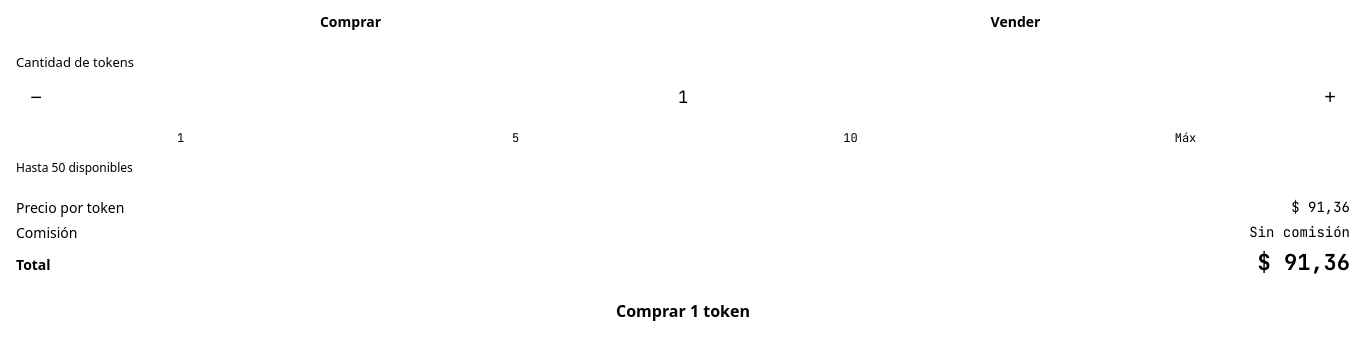
TradePanel › calcula el total como precio x cantidad, y lo actualiza con el stepper
Expected: the text "$ 91,36" is shown 2 times, [1291,198,1350,217]; [1258,248,1350,277]
Click the button named "Sumar" at {"x": 1330, "y": 97}, box [1310,77,1350,117]
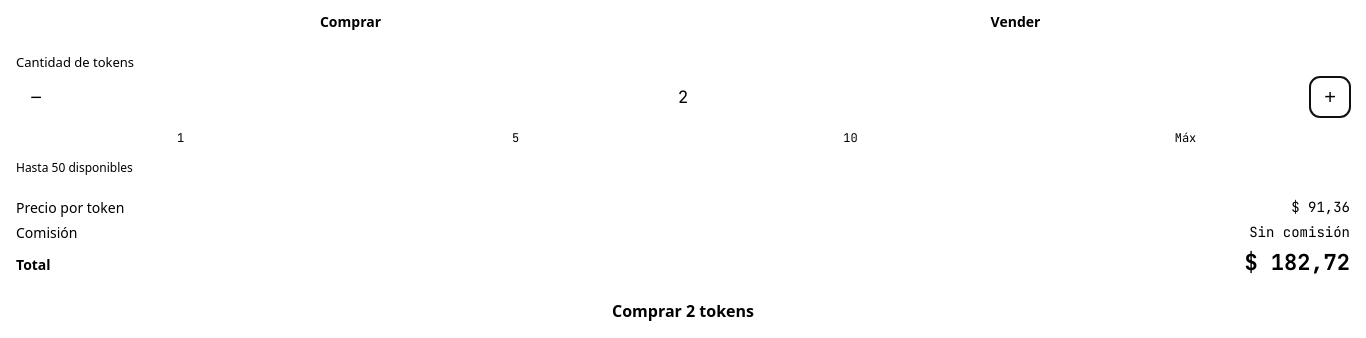
Expected: the text "$ 91,36" is shown, [1291,198,1350,217]
Expected: the text "$ 182,72" is shown, [1244,248,1350,277]
